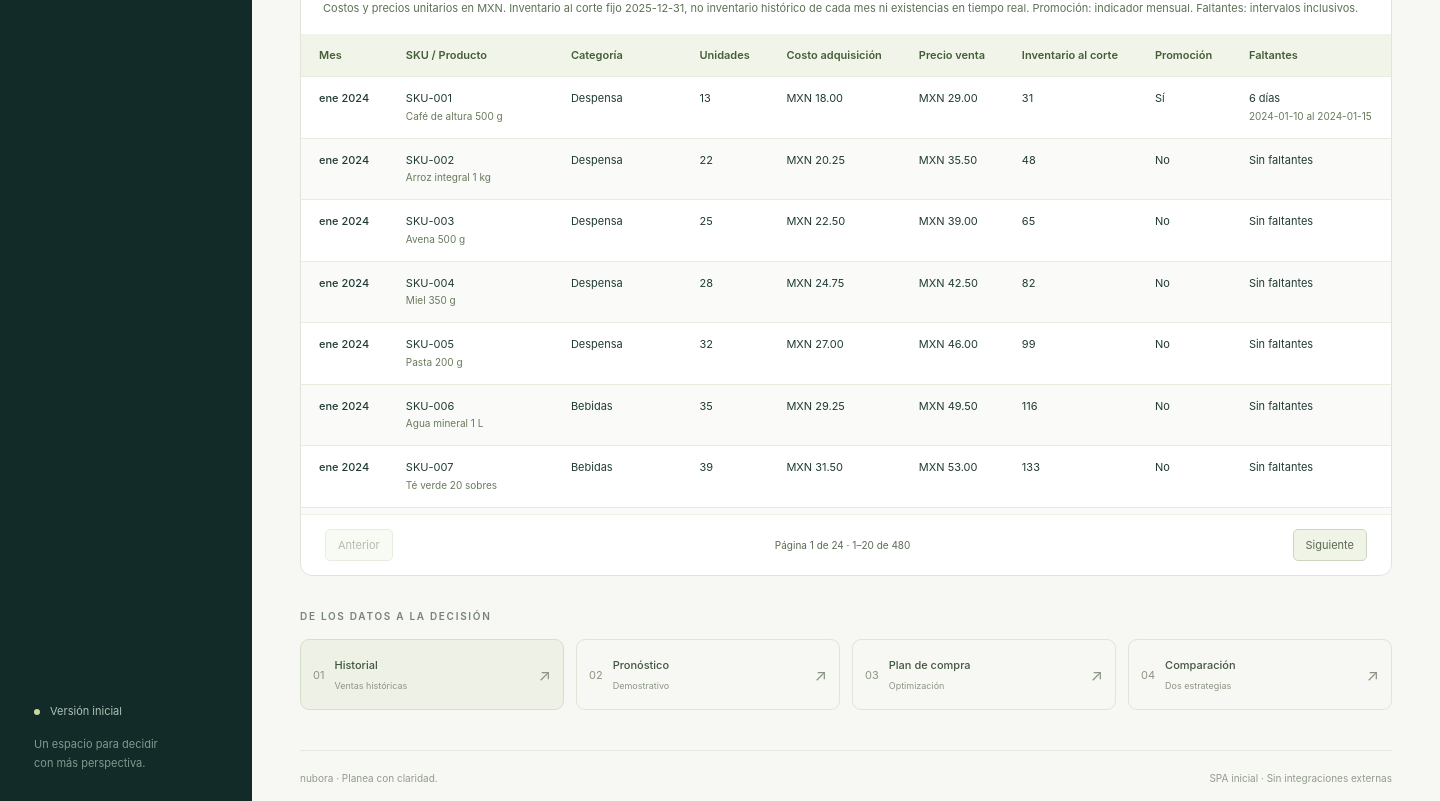
Nubora › permite navegar desde la ruta de trabajo
(page scrolled)
Click the button "04 Comparación Dos estrategias ↗" at (1200, 665), box [1128,640,1392,710]
(page scrolled)
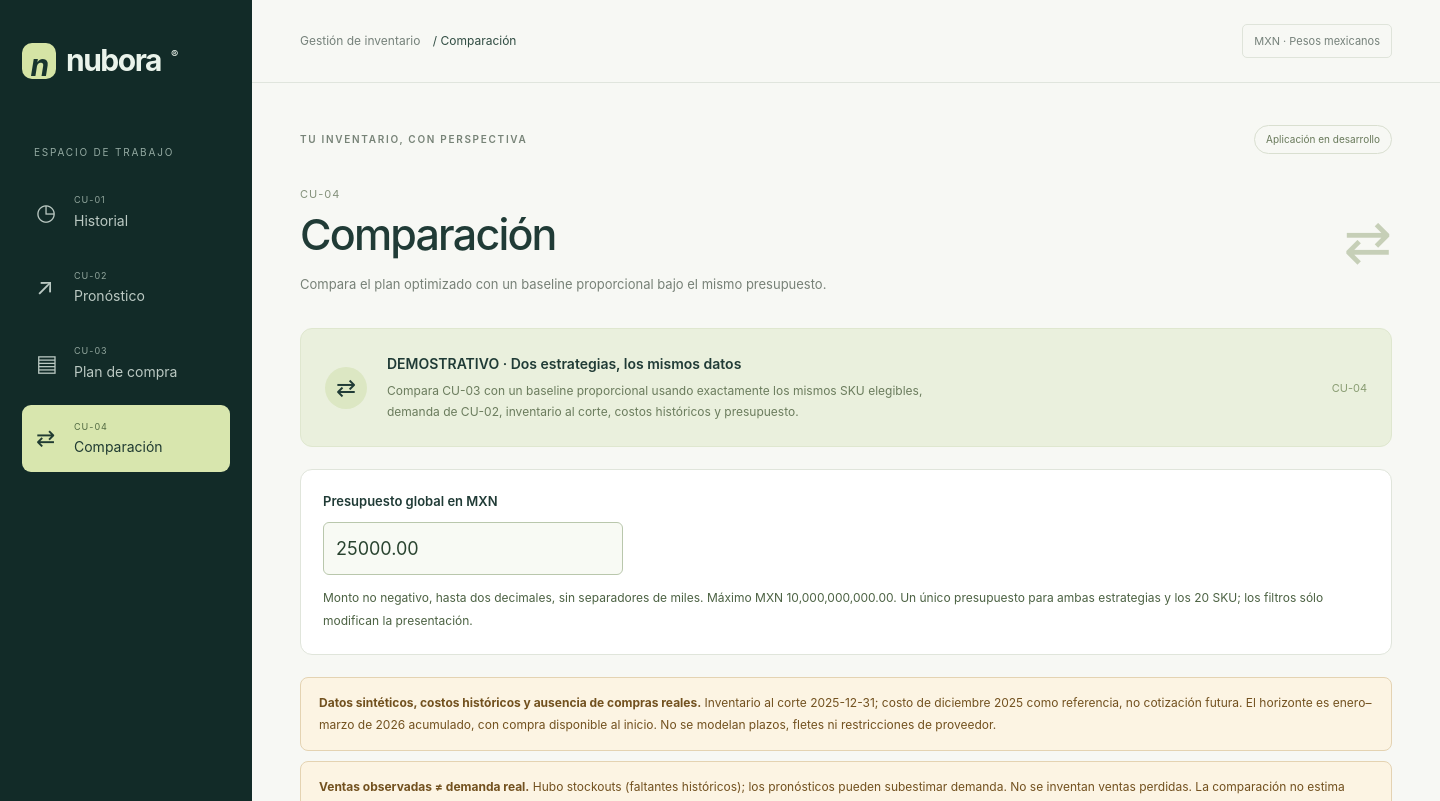
Result: the heading "Comparación" is shown at [300,208,556,260]
